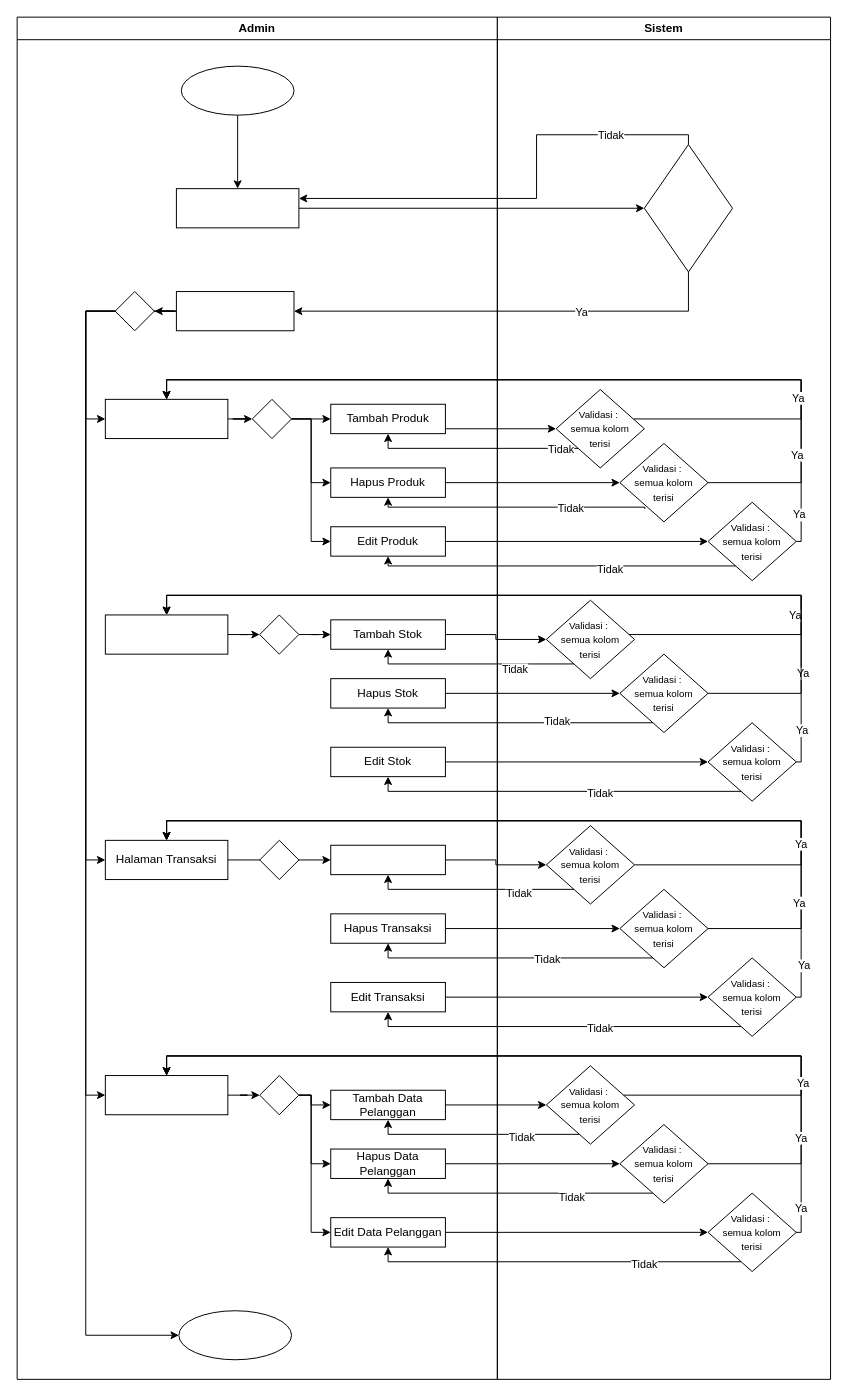
The diagram is 848 pixels wide and 1397 high, and some of its shapes have lost their labels. The shapes that lost their labels are listed below. From the top down, each one's centre as x and y in pixels, then its label:
the point at 237,90: Start
the point at 237,208: Login
the point at 688,208: Validasi username dan password
the point at 234,311: Halaman Dashboard
the point at 166,418: Halaman Produk
the point at 166,634: Halaman Stok
the point at 387,859: Tambah Transaksi
the point at 166,1095: Halaman Pelanggan
the point at 235,1335: End
